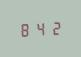eight: (18, 21, 31, 37)
four: (33, 20, 46, 36)
two: (47, 19, 60, 35)
